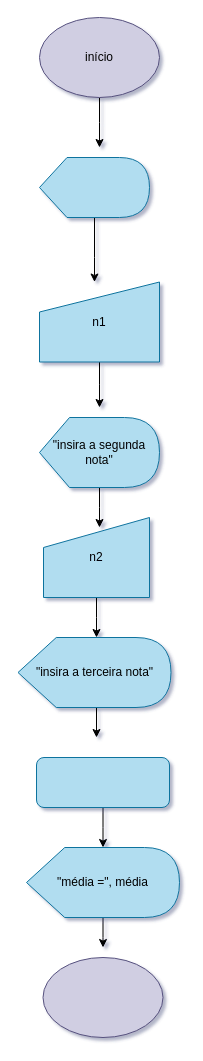
This 203x1061 diagram has some shape labels left out. Each missing label, with the centre of its shape:
"insira a primeira nota": (94,187)
"média <- ( n1+n2+3)/3: (103,782)
Fim: (102,997)
